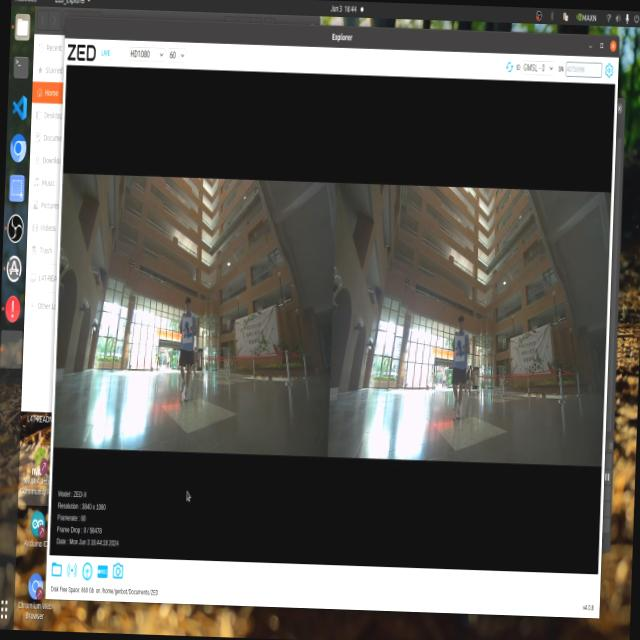blue: (452, 334, 463, 360), (184, 322, 193, 338)
